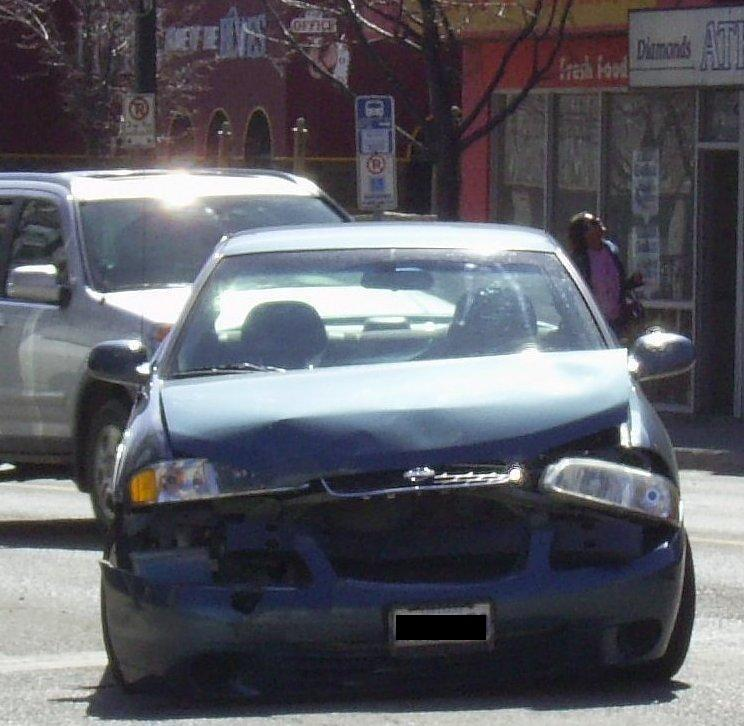bonnet-dent: (151, 338, 624, 484)
front-bumper-dent: (141, 468, 626, 670)
